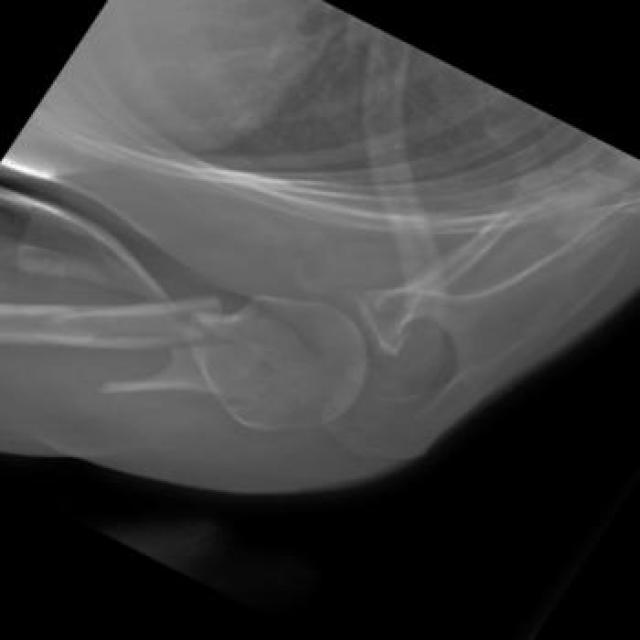Fracture: (117, 329, 185, 412)
